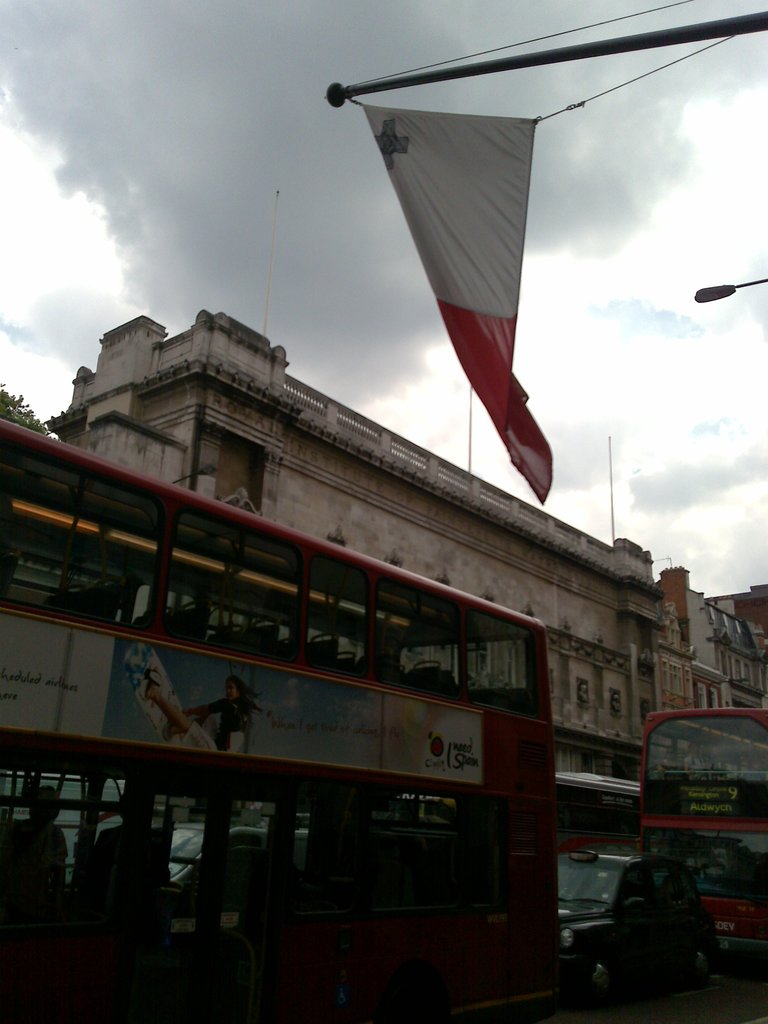Bus: (0, 419, 566, 1023), (644, 700, 767, 969), (380, 766, 643, 859)
